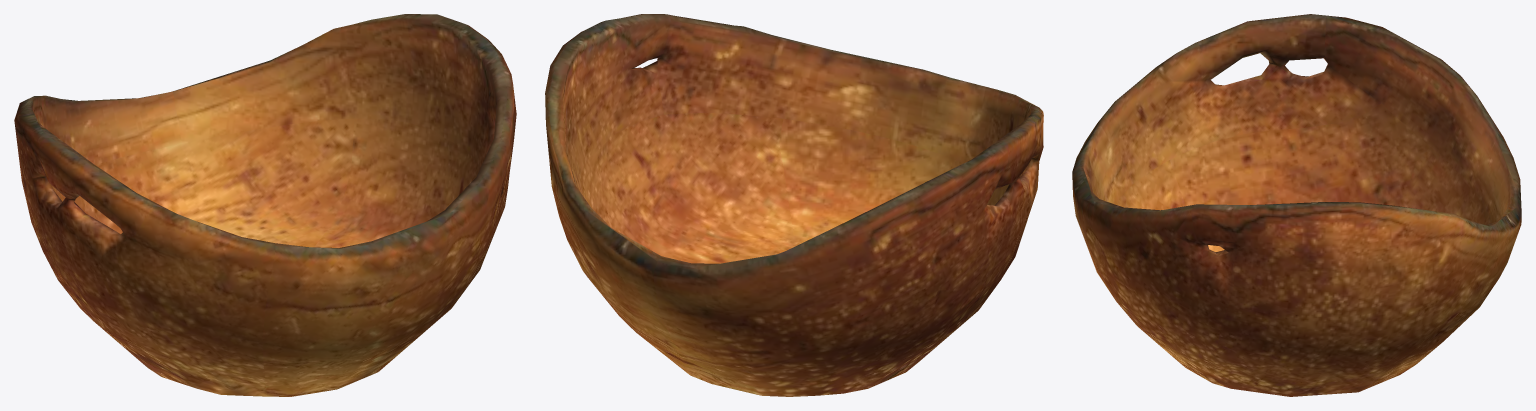
File: bowl-191d000e.glb
3 renders of one model, left to right at view 1: azimuth 30°, elevation 25°; view 2: azimuth 150°, elevation 25°; view 3: azimuth 270°, elevation 25°, orthographic. The views are drawn at different scales.
Parts seen in each view (by area): view 1: wooden_bowl_02; view 2: wooden_bowl_02; view 3: wooden_bowl_02.
Boxes of the visible parts, x1,y1,x2,y2 form: wooden_bowl_02: (14, 14, 516, 396); wooden_bowl_02: (545, 14, 1043, 396); wooden_bowl_02: (1072, 14, 1521, 396).
Size of the model in its own units: 0.1302 by 0.0731 by 0.124.
Materials: 1 (1 with a texture image).
